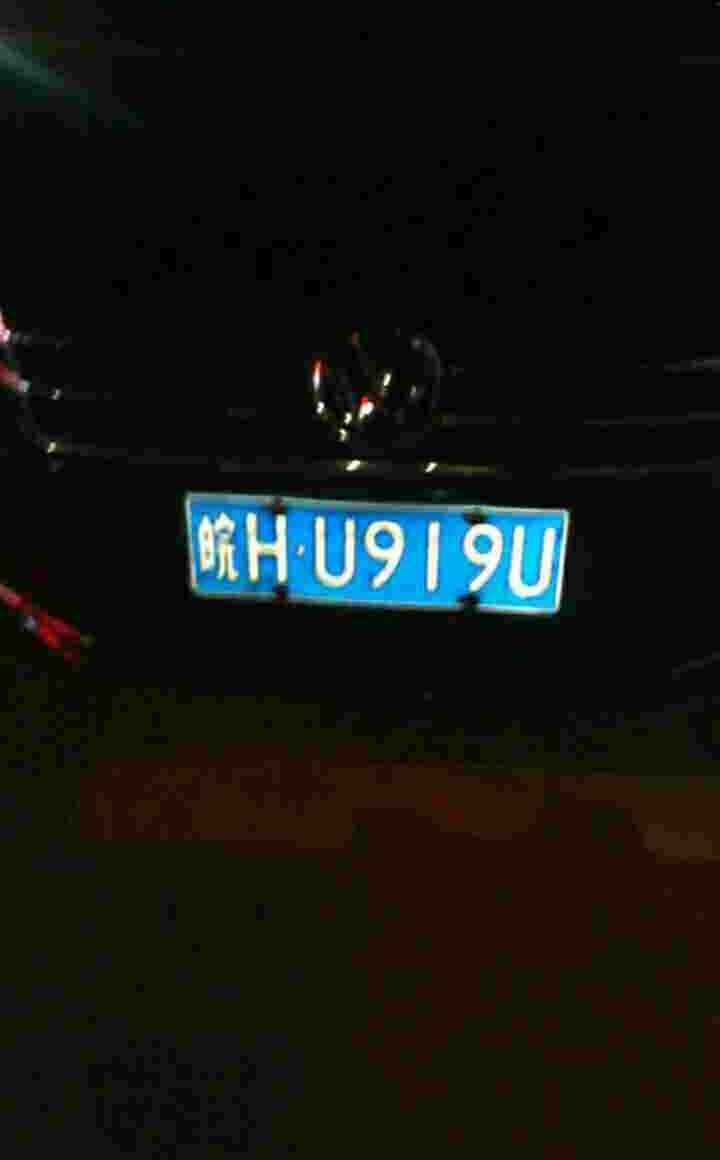license_plate: (182, 502, 574, 603)
